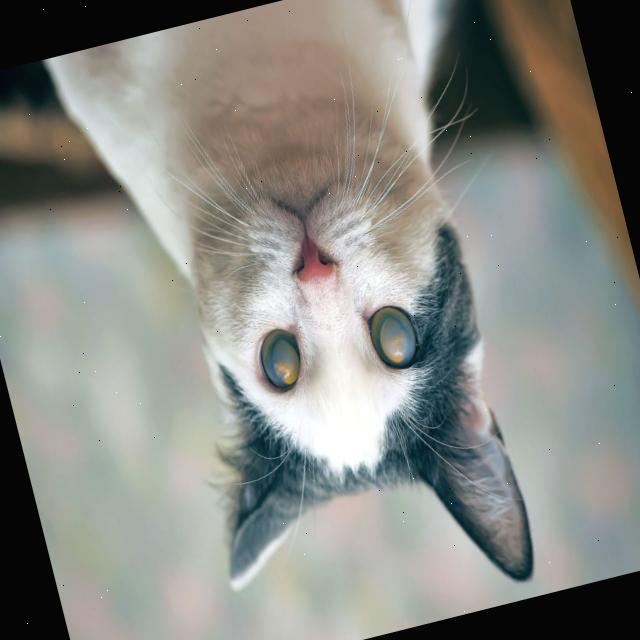cat-eye: (359, 291, 427, 378), (246, 319, 315, 404)
